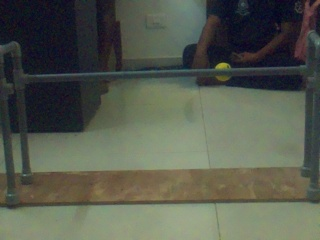ball: (214, 62, 230, 68)
